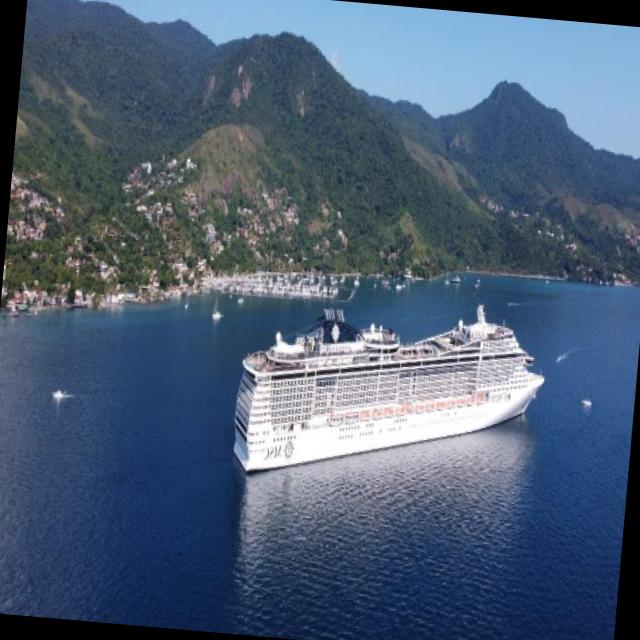Cruise: (234, 305, 543, 471)
